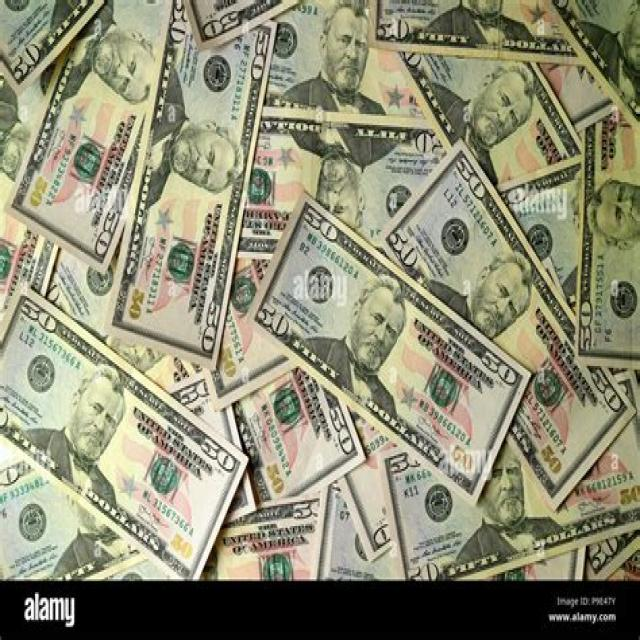Fifty: (384, 137, 636, 506), (249, 193, 531, 506), (0, 283, 249, 579), (108, 2, 276, 374), (0, 374, 256, 580), (377, 381, 640, 581), (7, 0, 173, 277), (234, 125, 450, 261), (401, 48, 587, 190), (256, 0, 439, 120), (224, 357, 364, 513), (576, 97, 640, 365), (368, 0, 594, 61)
